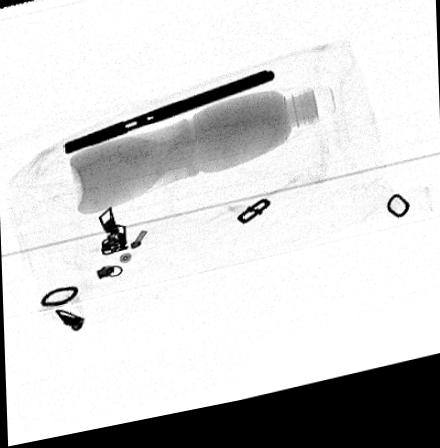Pliers: (63, 80, 275, 157)
